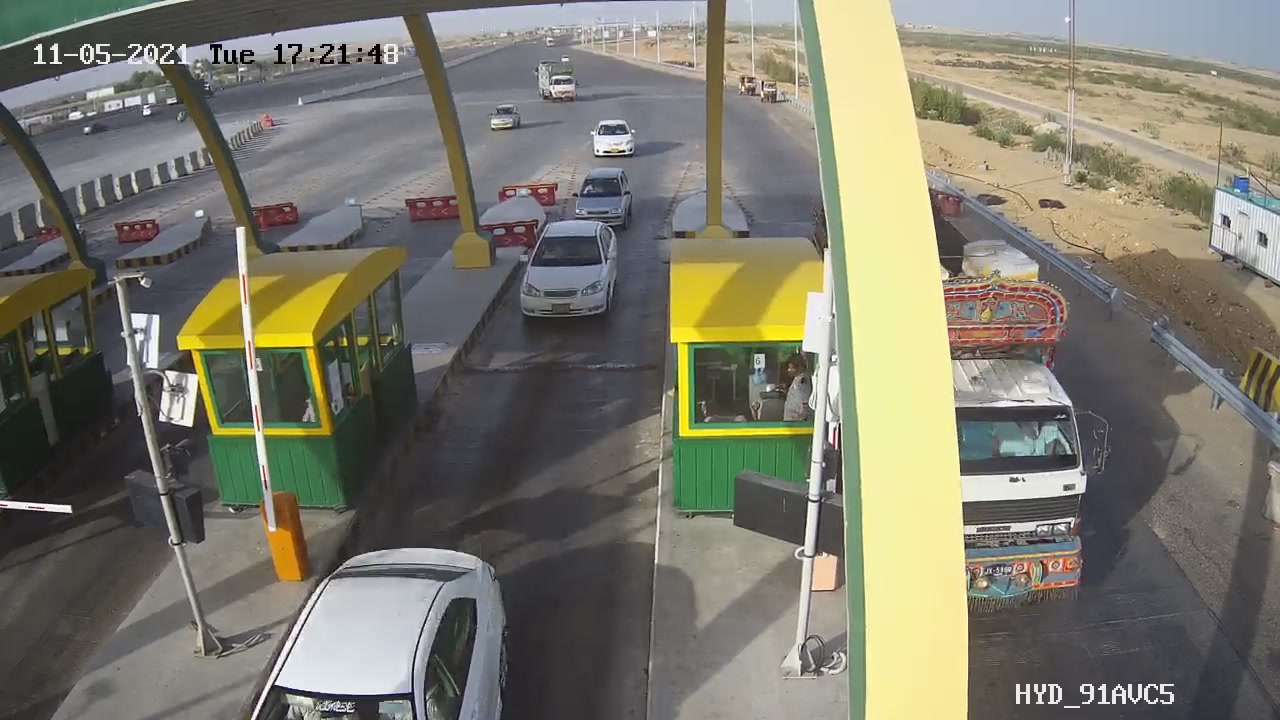F1: (501, 209, 637, 338)
